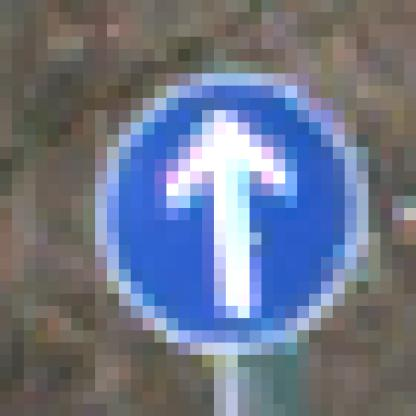AheadOnly: (72, 62, 346, 356)
